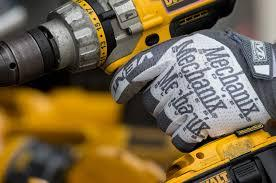gloves: (109, 28, 276, 152)
